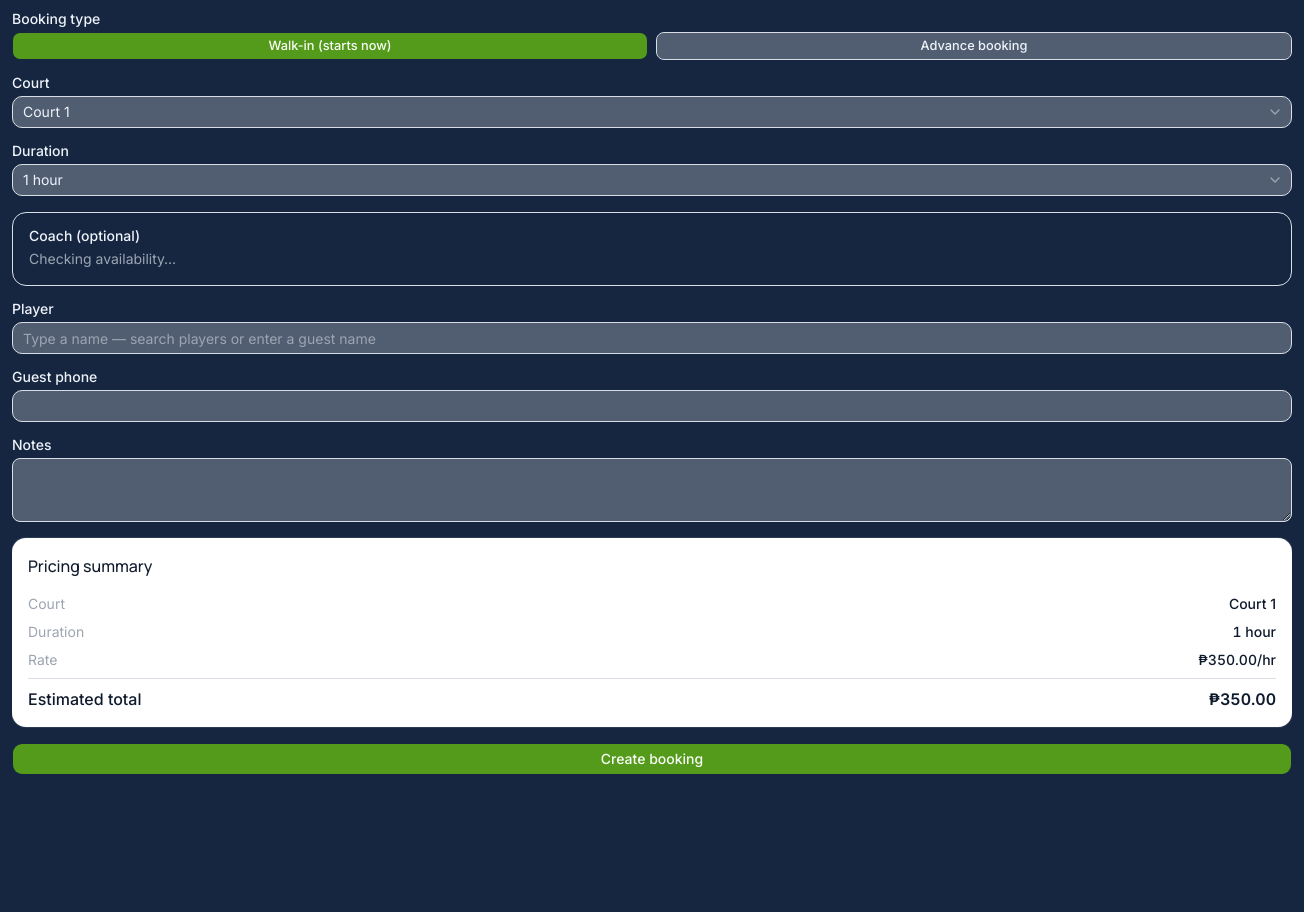
BookingForm — Time dropdown excludes already-booked slots › does not offer an hour already covered by an existing booking for the selected court/date
Click the button "Advance booking" at (974, 46), box x1=656 y1=32 x2=1292 y2=60
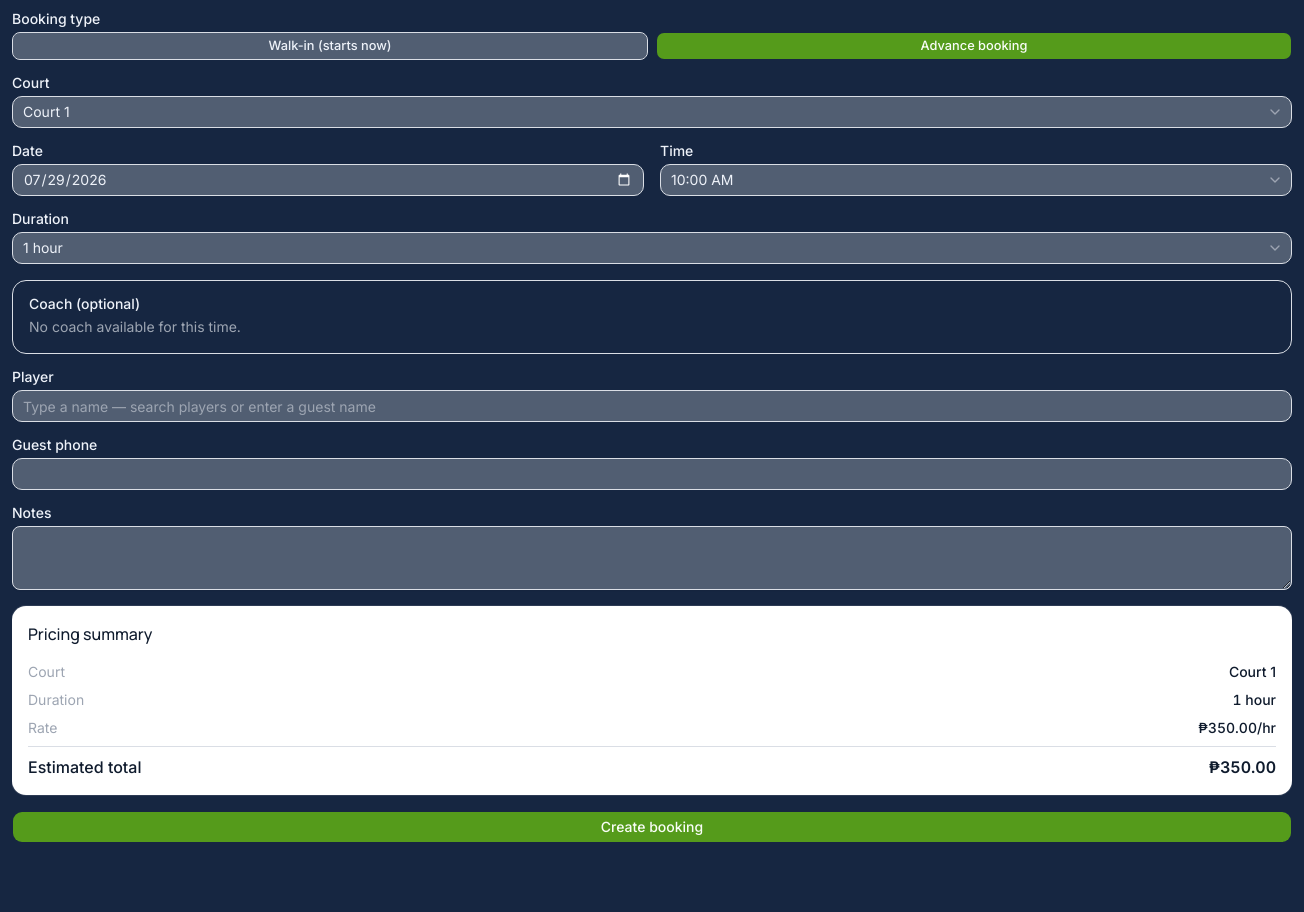
Click the dropdown named "time" at (702, 180), box x1=660 y1=164 x2=1292 y2=196
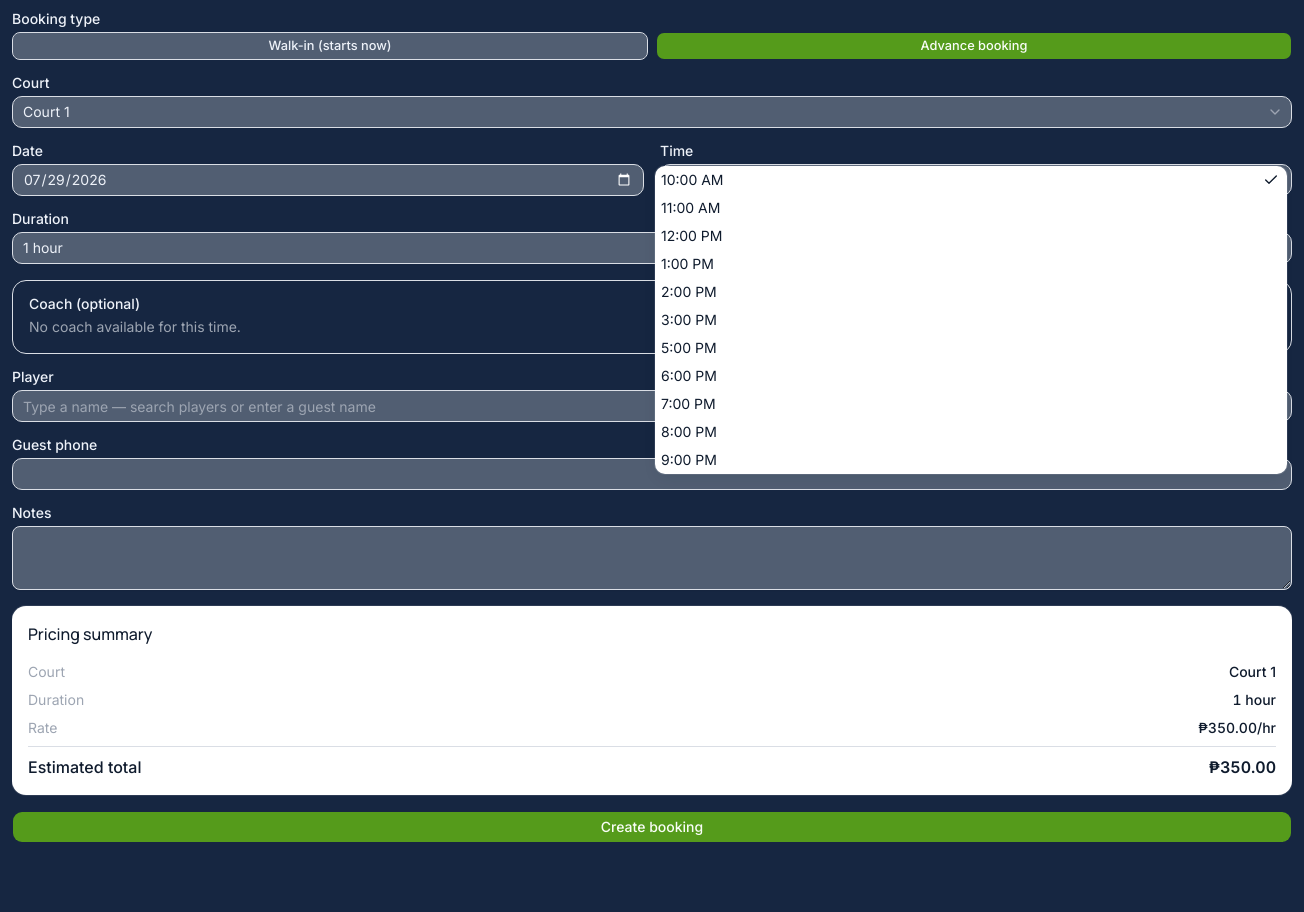
Result: the option "3:00 PM" is shown at x1=661 y1=311 x2=717 y2=328
Result: the option "5:00 PM" is shown at x1=661 y1=339 x2=716 y2=356
